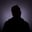Face: (10, 5, 23, 19)
